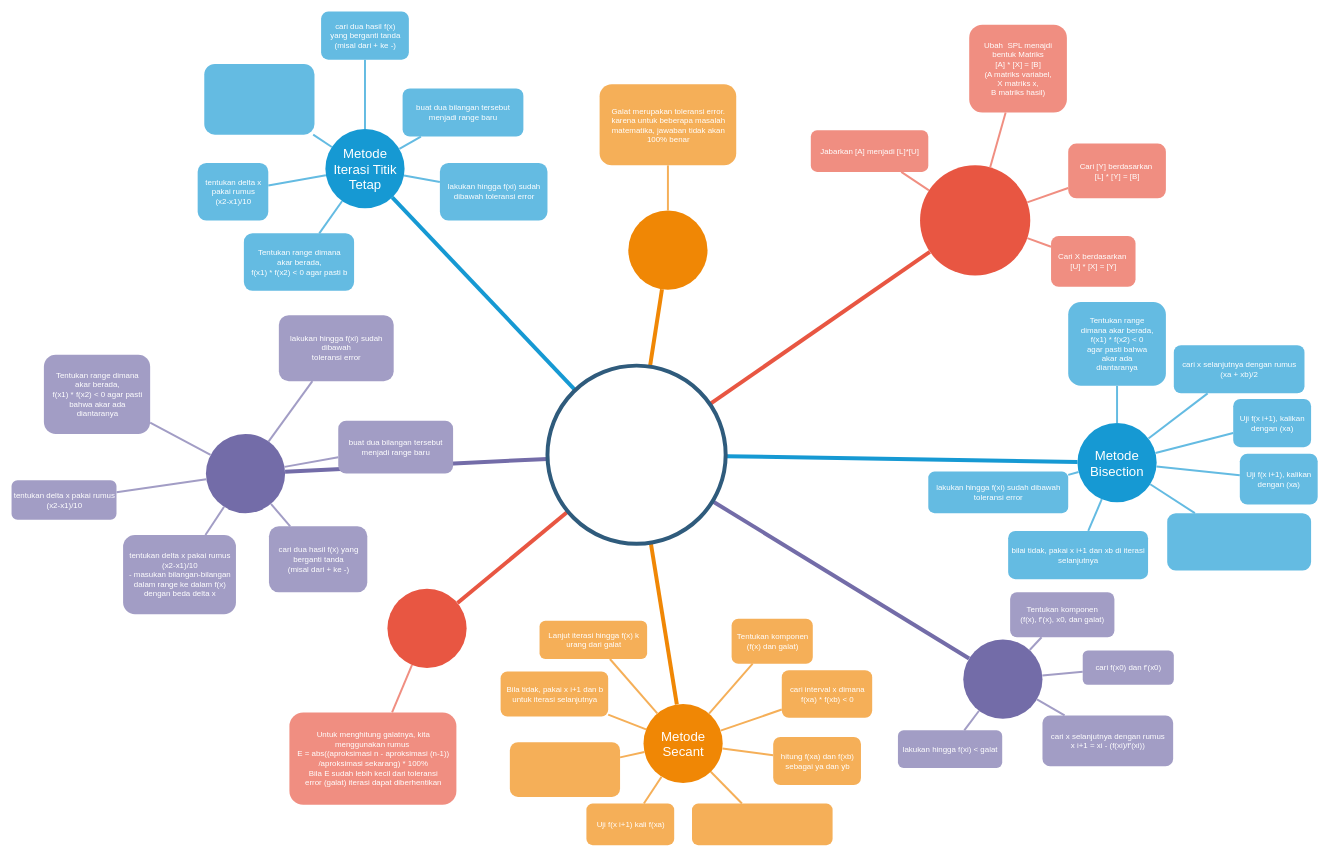
This 1329x856 diagram has some shape labels left out. The shapes that lost their labels are listed below. From the top down, each one's centre as x and y in pixels, then its label:
(x=259, y=99): masukan bilangan-bilangan dalam range ke dalam f(x) dengan beda delta x.
(x=975, y=220): Metode Dekomposisi LU
(x=667, y=249): Galat
(x=245, y=473): Metode Tabulasi
(x=636, y=454): METODE NUMERIK
(x=1239, y=541): bila f(x i+1) * f(xa) < 0, iterasi selanjutnya memakai x i+1 dan xa
(x=426, y=628): Deret Taylor
(x=1002, y=678): Metode Newton-Raphson
(x=565, y=769): Bila dikalikan kurang dari 0, iterasi selanjutnya pakai x i+1 dam xa
(x=762, y=824): cari x i+1 dengan rumus x i+1 = xb - (yb * (xb - xa) / (yb - ya))
